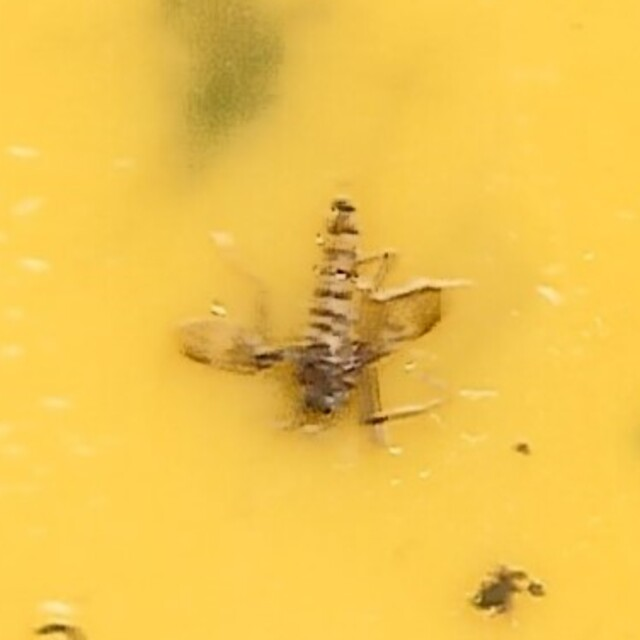Nematocera: (170, 189, 470, 451)
